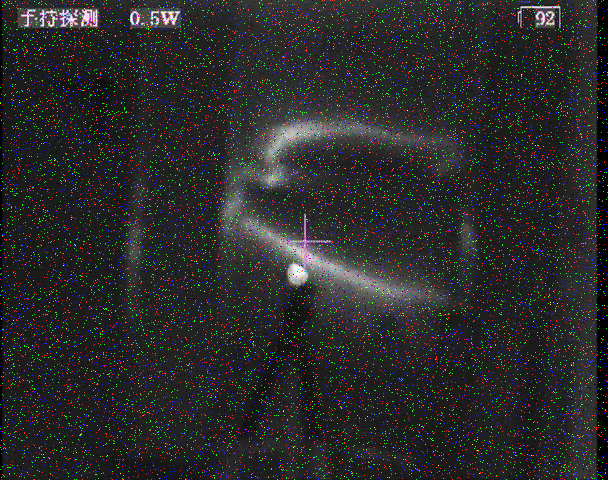my: (285, 261, 310, 286)
